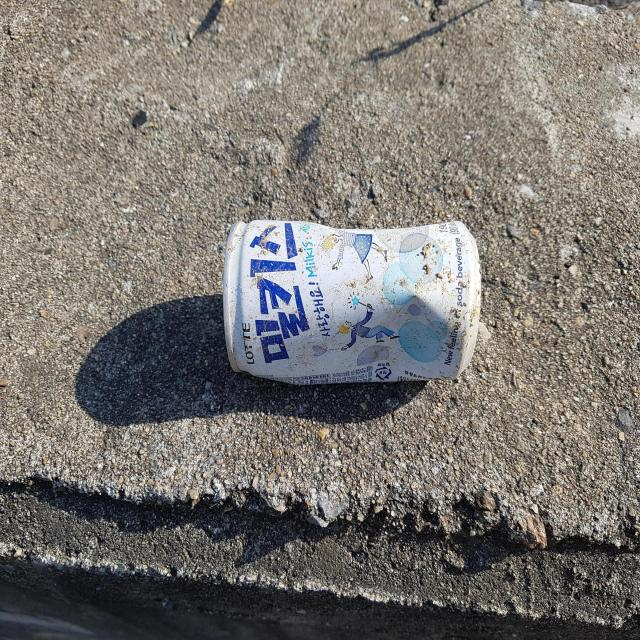can: (223, 220, 482, 385)
